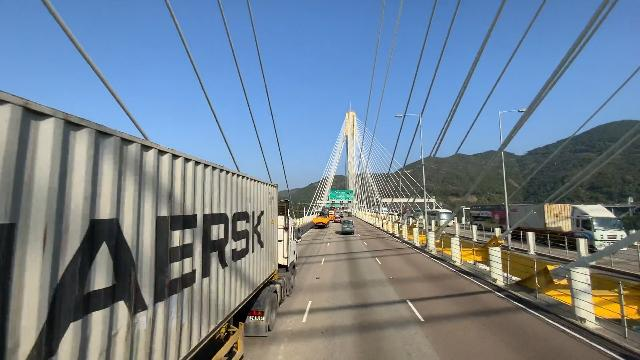truck: (0, 76, 304, 360), (309, 203, 332, 235)
van: (337, 219, 358, 235)
